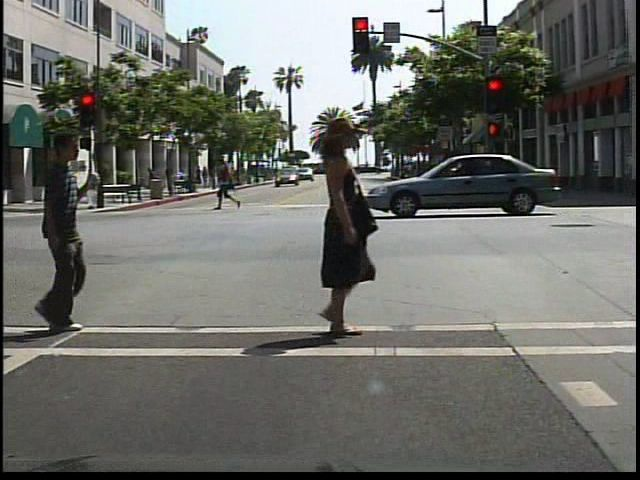person: (277, 125, 398, 343), (22, 129, 104, 336), (214, 155, 241, 211), (145, 164, 166, 199)
